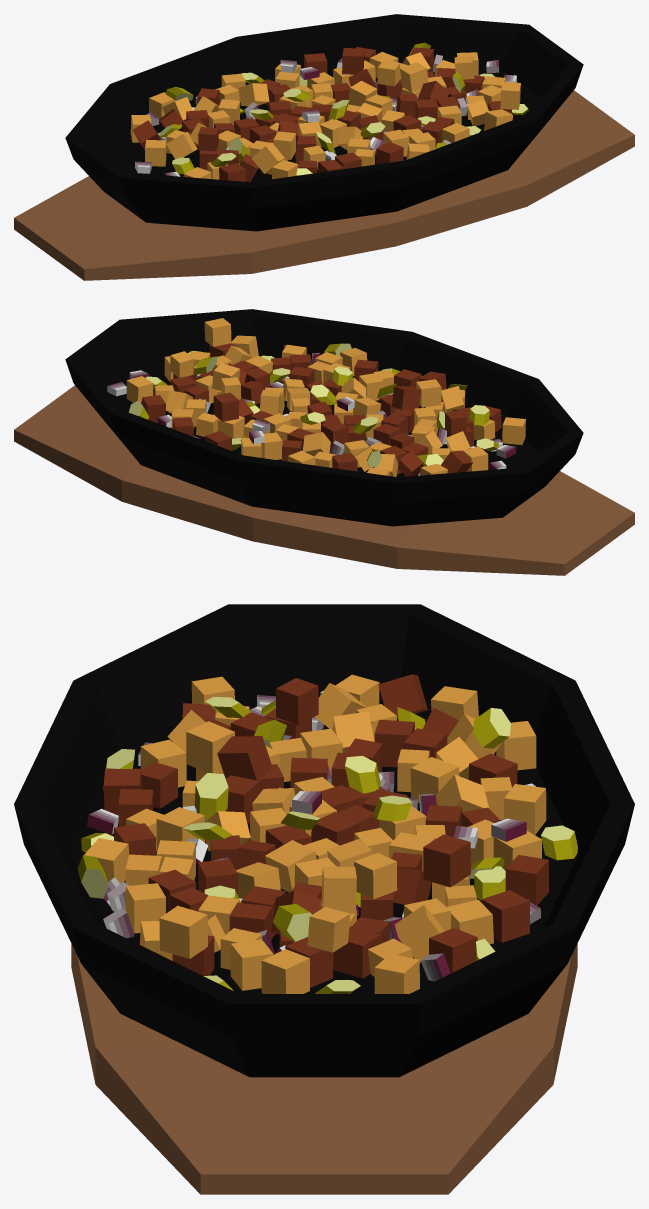
Rendered from FINAL_Chicken Sisig.fbx.
The picture shows the model from 3 angles, top to bottom: view 1: azimuth 30°, elevation 25°; view 2: azimuth 150°, elevation 25°; view 3: azimuth 270°, elevation 25°; orthographic projection. The views are drawn at different scales.
Parts seen in each view (by area): view 1: Chicken Sisig; view 2: Chicken Sisig; view 3: Chicken Sisig.
Part boxes in pixels (box(x1,y1,x2,y2)): Chicken Sisig: box(14, 14, 634, 280); Chicken Sisig: box(14, 309, 634, 575); Chicken Sisig: box(14, 604, 634, 1194).
Bounding box in the file's own units: 161 × 28.25 × 88.92.
